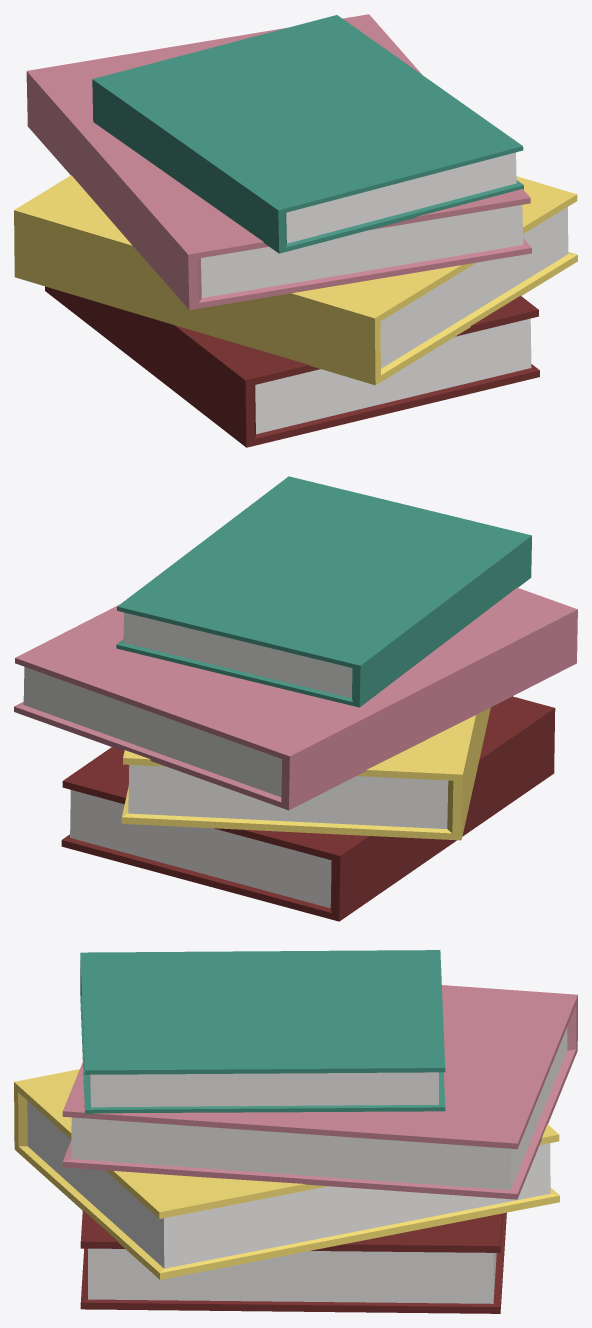
The model's file is Books_7.fbx.
3 views of the same model, one above another, from view 1: azimuth 30°, elevation 25°; view 2: azimuth 150°, elevation 25°; view 3: azimuth 270°, elevation 25° (orthographic). The views are drawn at different scales.
Parts seen in each view (by area): view 1: Books_7; view 2: Books_7; view 3: Books_7.
Part boxes in pixels (<box>): Books_7: <box>14,14,577,447</box>; Books_7: <box>14,476,577,921</box>; Books_7: <box>14,950,577,1313</box>.
Size of the model in its own units: 36.17 by 40.68 by 18.72.
